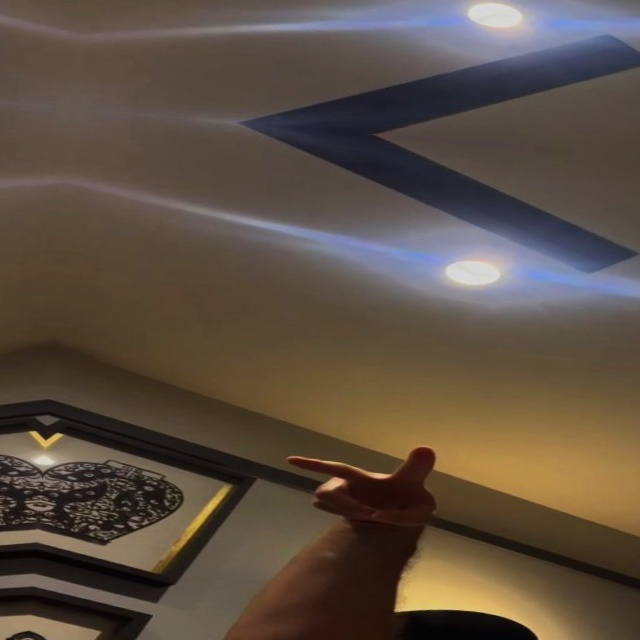Scissors: (278, 431, 448, 535)
